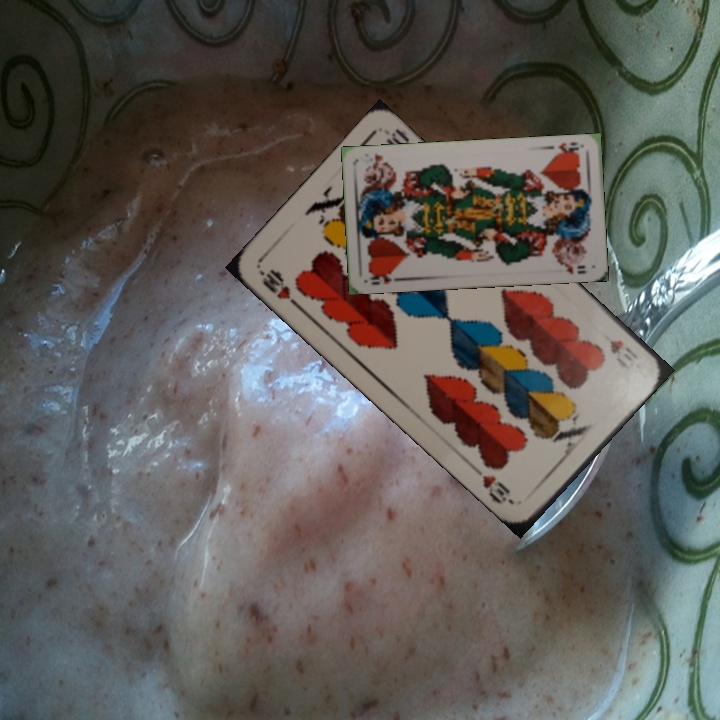H10: (255, 265, 304, 311), (606, 335, 640, 373)
HO: (363, 268, 403, 288), (550, 138, 585, 158)
